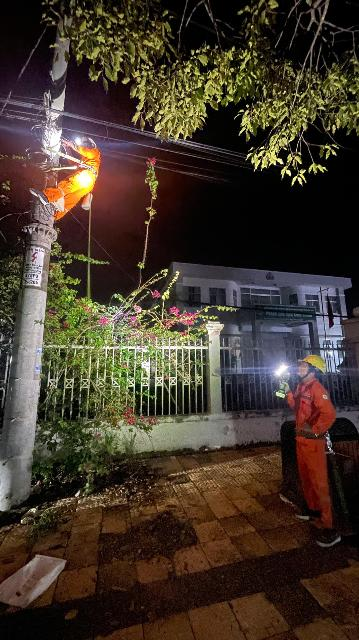harness: (56, 155, 105, 183), (290, 417, 336, 444)
helmet: (292, 346, 338, 378), (71, 132, 101, 150)
shoes: (316, 521, 345, 547), (30, 189, 54, 211), (292, 505, 319, 522)
